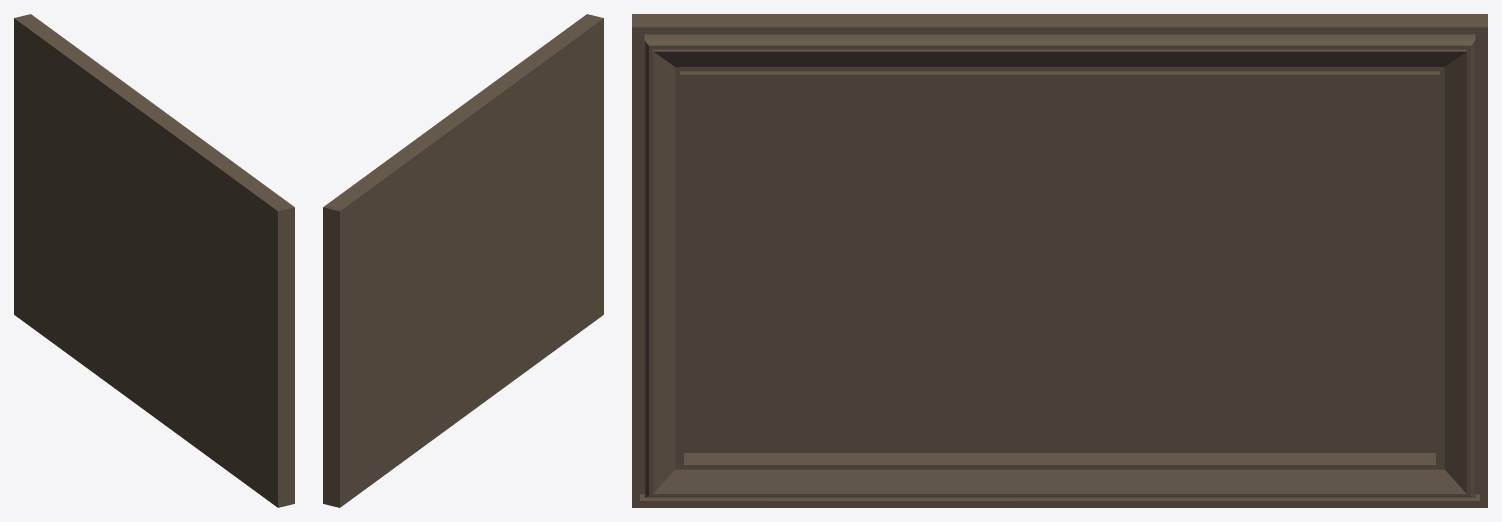
Rendered from pic.fbx.
The picture shows the model from 3 angles, left to right: view 1: azimuth 30°, elevation 25°; view 2: azimuth 150°, elevation 25°; view 3: azimuth 270°, elevation 25°; orthographic projection. The views are drawn at different scales.
Parts seen in each view (by area): view 1: picture_low1; view 2: picture_low1; view 3: picture_low1.
Part boxes in pixels (bbox=[...]): picture_low1: bbox=[14, 14, 294, 507]; picture_low1: bbox=[323, 14, 603, 507]; picture_low1: bbox=[632, 14, 1487, 507].
Bounding box in the file's own units: 0.4182 × 5.07 × 8.18.
